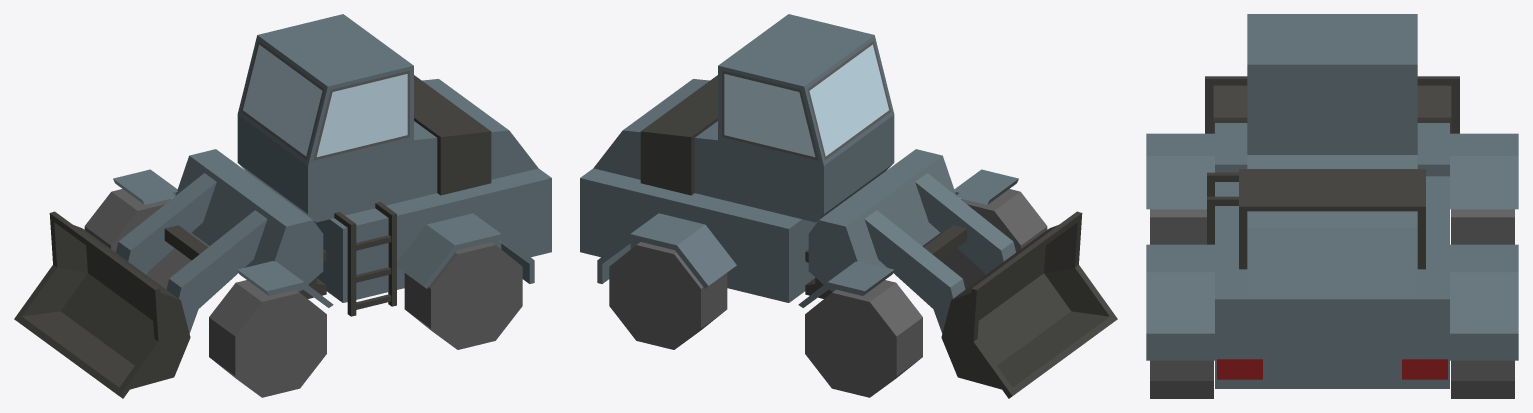
The model's file is Bulldozer.fbx.
3 views of the same model, side by side, from view 1: azimuth 30°, elevation 25°; view 2: azimuth 150°, elevation 25°; view 3: azimuth 270°, elevation 25° (orthographic). The views are drawn at different scales.
Parts seen in each view (by area): view 1: Bulldozer; view 2: Bulldozer; view 3: Bulldozer.
Boxes of the visible parts, x1=… form: Bulldozer: x1=14, y1=14, x2=551, y2=398; Bulldozer: x1=580, y1=14, x2=1117, y2=398; Bulldozer: x1=1146, y1=14, x2=1518, y2=398.
Size of the model in its own units: 10.88 by 6.1 by 6.65.
Materials: 1 (1 with a texture image).
